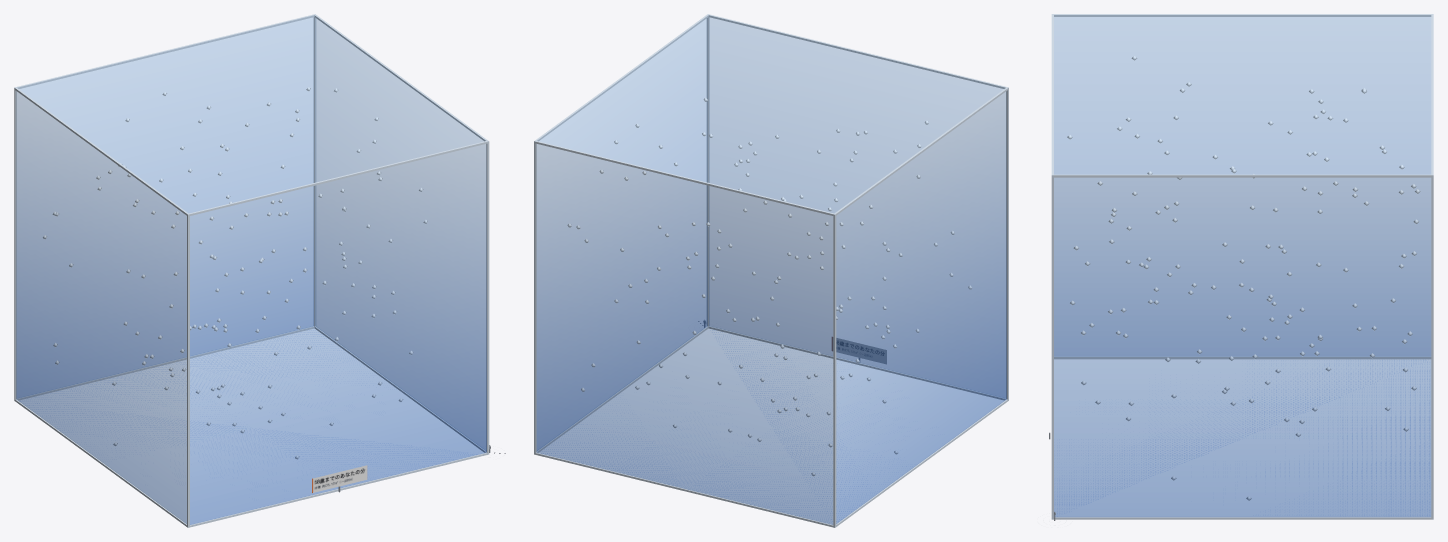
Rendered from cube_life_58.glb.
3 renders of one model, left to right at view 1: azimuth 30°, elevation 25°; view 2: azimuth 150°, elevation 25°; view 3: azimuth 270°, elevation 25°, orthographic. The views are drawn at different scales.
Parts seen in each view (by area): view 1: co2, edge, dots, label; view 2: co2, edge, dots, label; view 3: co2, edge, dots.
Part boxes in pixels (x1,y1,x2,y2): co2: [16, 15, 486, 524]; edge: [14, 14, 489, 527]; dots: [43, 87, 427, 459]; label: [312, 465, 367, 492]; co2: [536, 15, 1006, 524]; edge: [534, 14, 1008, 527]; dots: [567, 97, 972, 476]; label: [832, 337, 886, 364]; co2: [1054, 15, 1431, 516]; edge: [1051, 14, 1433, 519]; dots: [1067, 55, 1420, 500].
Bounding box in the file's own units: 68.8 × 65.04 × 67.9.
Materials: 8 (3 with a texture image).
